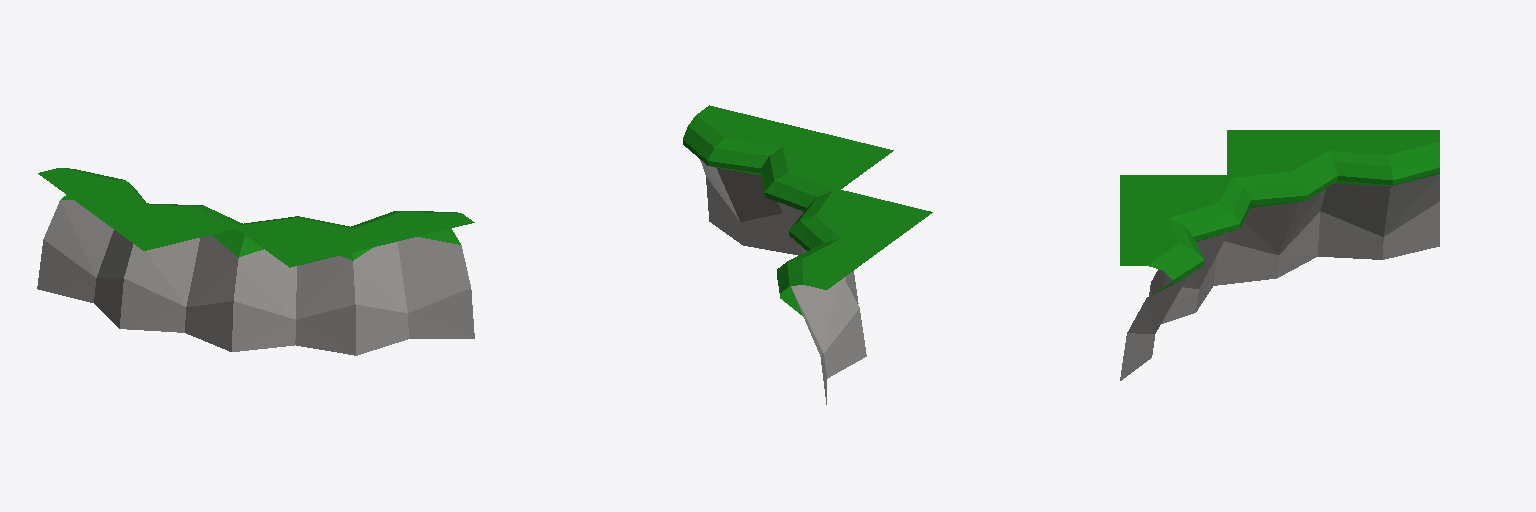
File: Cliff_Terrain_Corner_Inner_3x3_Top.obj
3 views of the same model, side by side, from view 1: azimuth 30°, elevation 25°; view 2: azimuth 150°, elevation 25°; view 3: azimuth 270°, elevation 25° (orthographic).
Parts seen in each view (by area): view 1: object1; view 2: object1; view 3: object1.
Part boxes in pixels (left/top/right/bottom): object1: left=37, top=168, right=474, bottom=355; object1: left=683, top=105, right=932, bottom=404; object1: left=1120, top=130, right=1439, bottom=380.
Bounding box in the file's own units: 3 × 1.2 × 3.